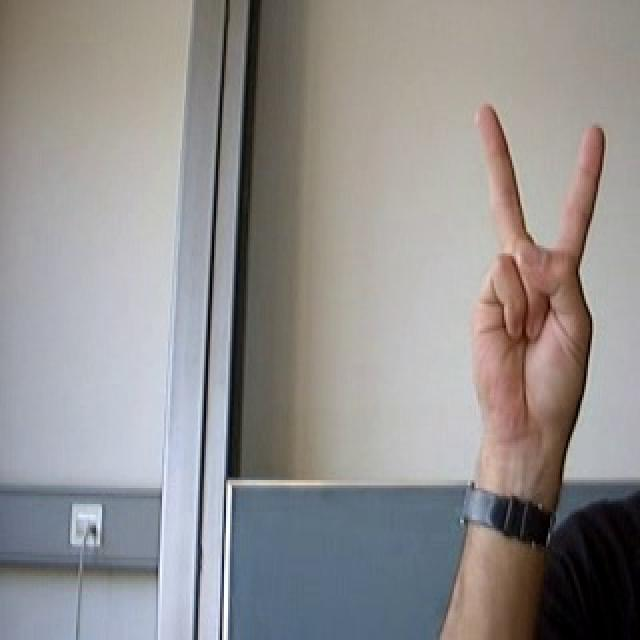V: (446, 88, 622, 457)
